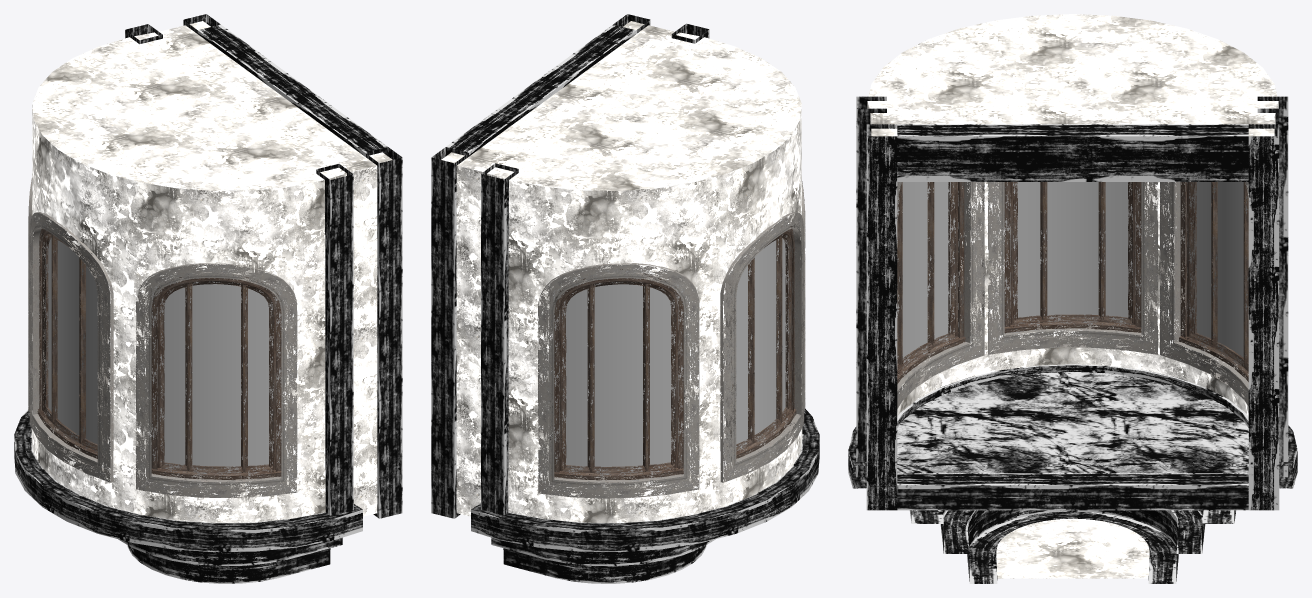
The model's file is SM_tower_round_01.fbx.
The picture shows the model from 3 angles, left to right: view 1: azimuth 30°, elevation 25°; view 2: azimuth 150°, elevation 25°; view 3: azimuth 270°, elevation 25°; orthographic projection. The views are drawn at different scales.
Parts seen in each view (by area): view 1: SM_tower_round_01_LOD0; view 2: SM_tower_round_01_LOD0; view 3: SM_tower_round_01_LOD0.
Boxes of the visible parts, bbox=[...] form: SM_tower_round_01_LOD0: bbox=[14, 14, 402, 583]; SM_tower_round_01_LOD0: bbox=[431, 14, 819, 583]; SM_tower_round_01_LOD0: bbox=[848, 14, 1297, 583].
Bounding box in the file's own units: 347 × 490 × 553.
Materials: 8 (7 with a texture image).
